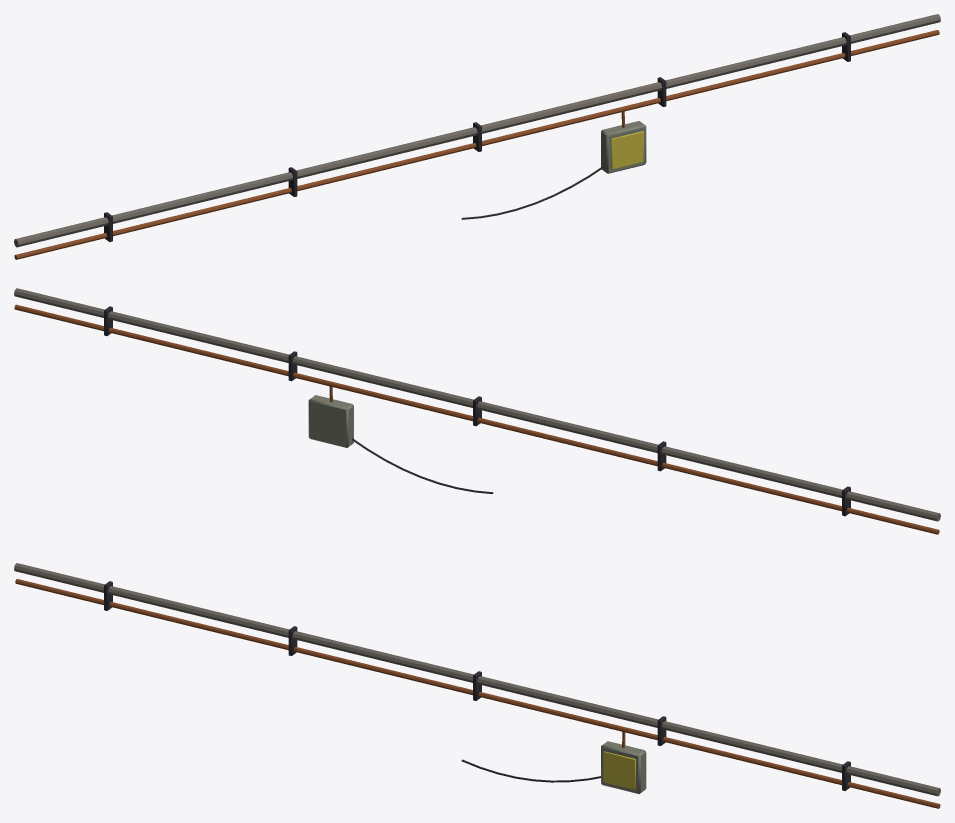
Rendered from conduit.glb.
The picture shows the model from 3 angles, top to bottom: view 1: azimuth 30°, elevation 25°; view 2: azimuth 150°, elevation 25°; view 3: azimuth 330°, elevation 25°; orthographic projection.
Parts seen in each view (by area): view 1: conduit; view 2: conduit; view 3: conduit.
Boxes of the visible parts, box(x1,y1,x2,y2) form: conduit: box(14, 14, 940, 259); conduit: box(14, 288, 940, 534); conduit: box(14, 563, 940, 808).
Size of the model in its own units: 12 by 1.19 by 0.18.
